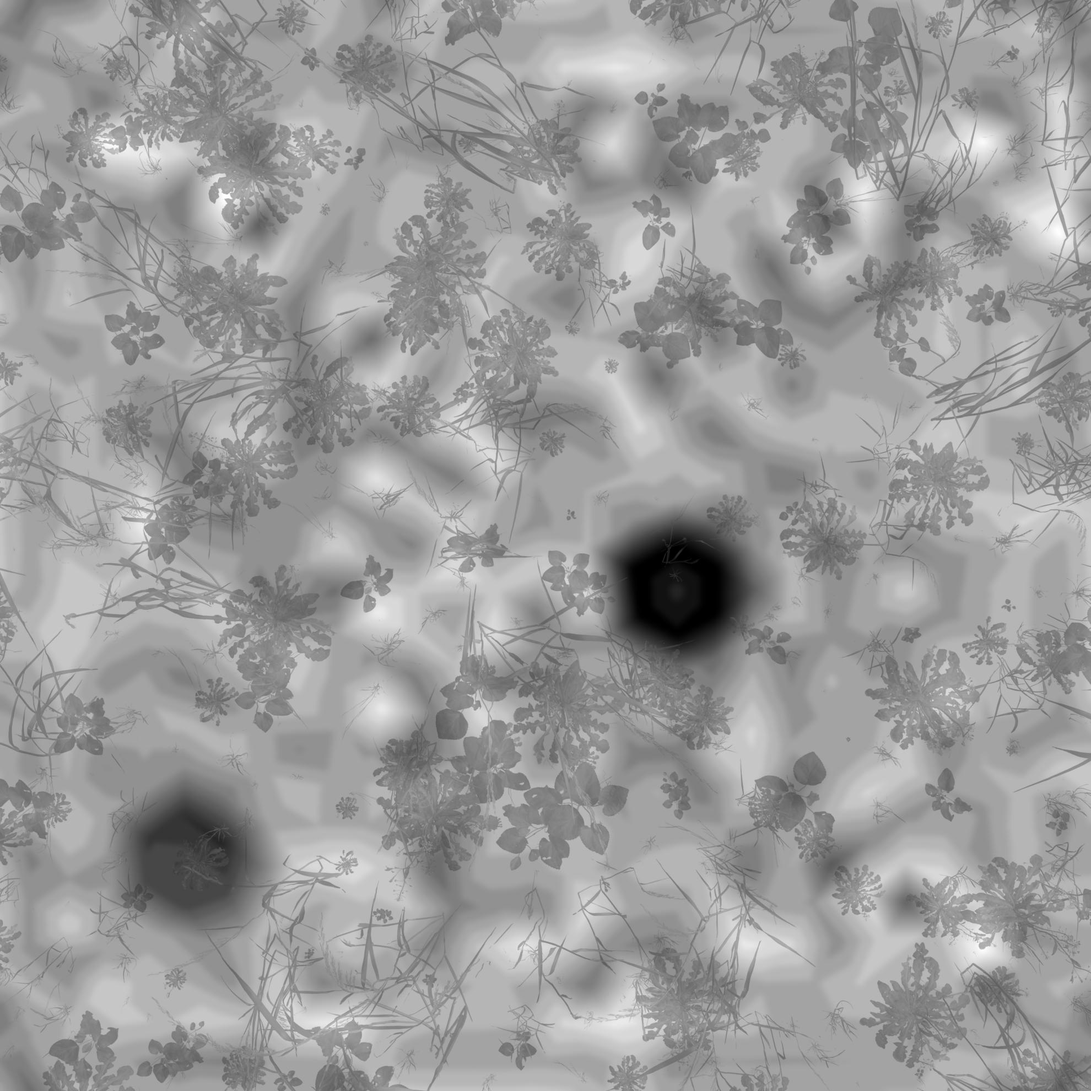landmine: (600, 511, 758, 658), (120, 791, 270, 931)
